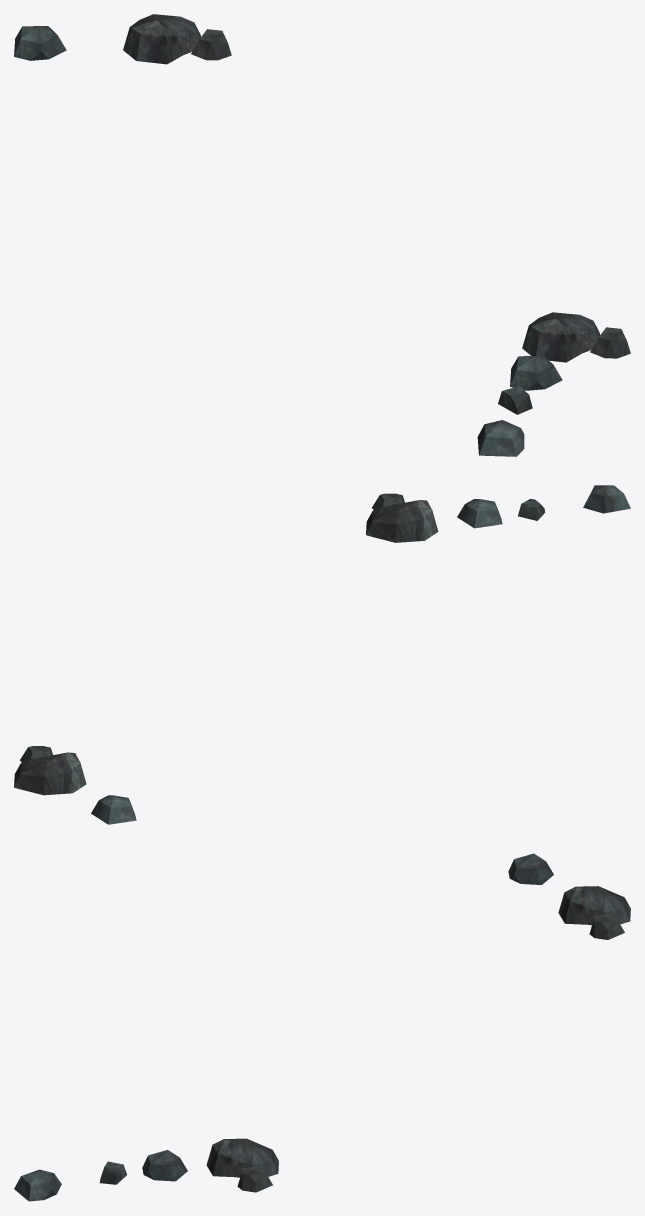
Rendered from object_rubble01.fbx.
The picture shows the model from 3 angles, top to bottom: view 1: azimuth 30°, elevation 25°; view 2: azimuth 150°, elevation 25°; view 3: azimuth 330°, elevation 25°; orthographic projection. The views are drawn at different scales.
Parts seen in each view (by area): view 1: obj0.078; view 2: obj0.078; view 3: obj0.078.
Boxes of the visible parts, x1,y1,x2,y2 form: obj0.078: [14, 14, 630, 456]; obj0.078: [14, 485, 630, 824]; obj0.078: [14, 853, 630, 1201].
Size of the model in its own units: 2.28 by 0.3219 by 9.31.
